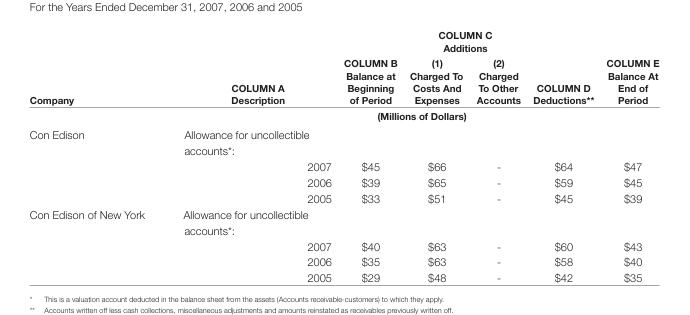table: (28, 28, 658, 283)
table column: (163, 28, 337, 283), (28, 28, 163, 283), (526, 28, 599, 283), (402, 28, 469, 283), (337, 28, 402, 283), (599, 28, 658, 283), (469, 28, 526, 283)
table column header: (28, 28, 658, 124)
table row: (28, 54, 658, 107), (28, 124, 658, 158), (28, 205, 658, 237), (28, 28, 658, 54), (28, 107, 658, 124), (28, 158, 658, 174), (28, 189, 658, 205), (28, 237, 658, 253), (28, 253, 658, 269), (28, 174, 658, 189), (28, 269, 658, 283)
table spanning cell: (163, 28, 337, 107), (28, 28, 163, 124), (28, 124, 163, 205), (28, 205, 163, 283), (163, 107, 658, 124), (526, 28, 599, 107), (337, 28, 402, 107), (599, 28, 658, 107), (402, 28, 526, 54)
